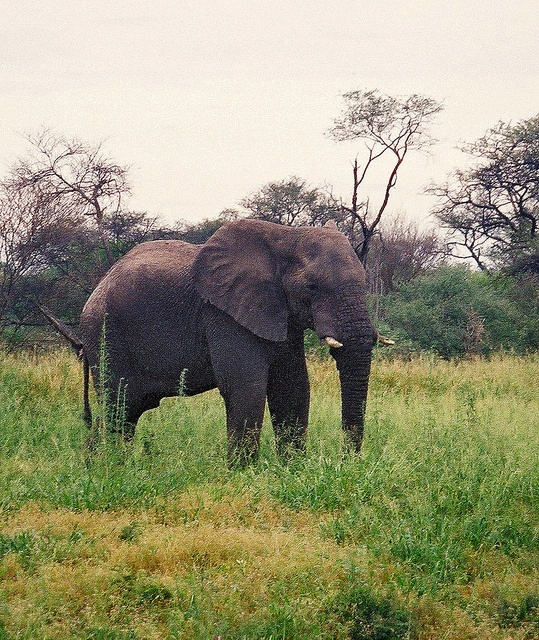elephant: (77, 219, 393, 469)
